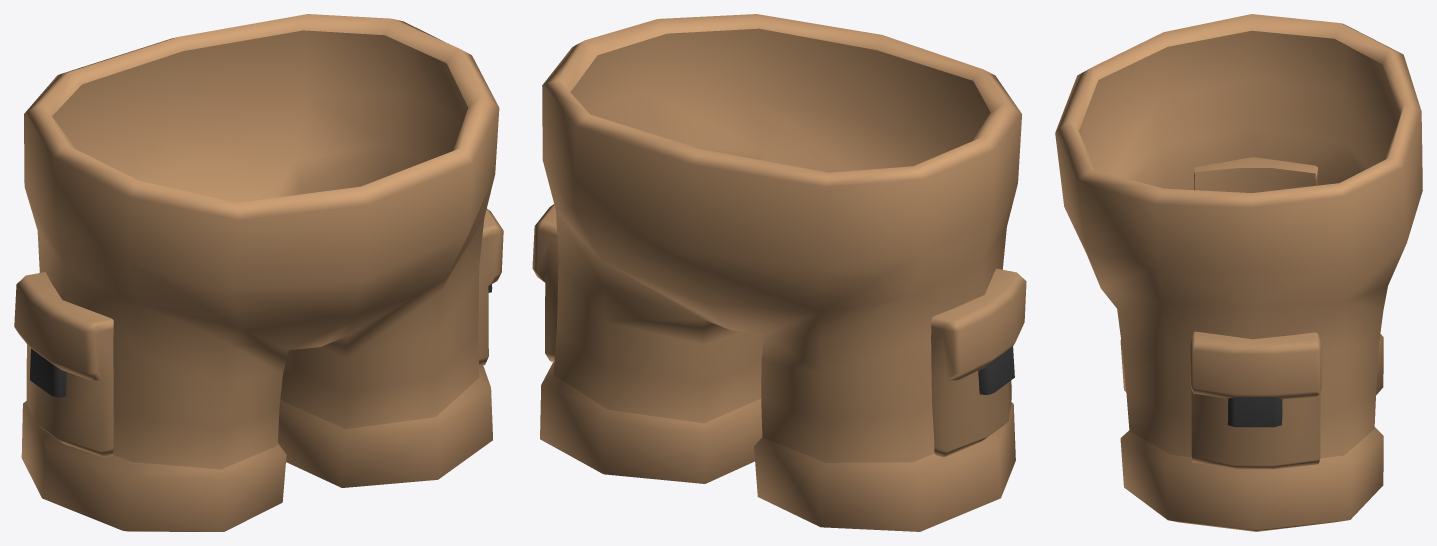
The model's file is Bottom_10.fbx.
The picture shows the model from 3 angles, left to right: view 1: azimuth 30°, elevation 25°; view 2: azimuth 150°, elevation 25°; view 3: azimuth 270°, elevation 25°; orthographic projection. The views are drawn at different scales.
Parts seen in each view (by area): view 1: Bottom_10; view 2: Bottom_10; view 3: Bottom_10.
Part boxes in pixels (left/top/right/bottom): Bottom_10: left=14, top=14, right=503, bottom=531; Bottom_10: left=532, top=14, right=1026, bottom=531; Bottom_10: left=1055, top=14, right=1422, bottom=531.
Bounding box in the file's own units: 40.66 × 32.52 × 31.34.
